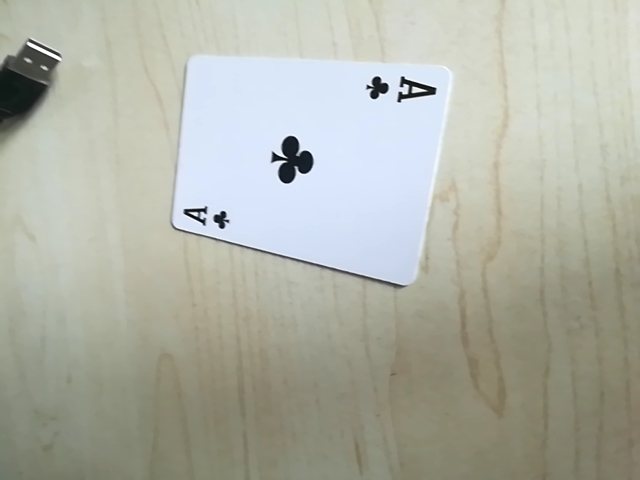mh a: (358, 68, 439, 111), (173, 198, 235, 234)
